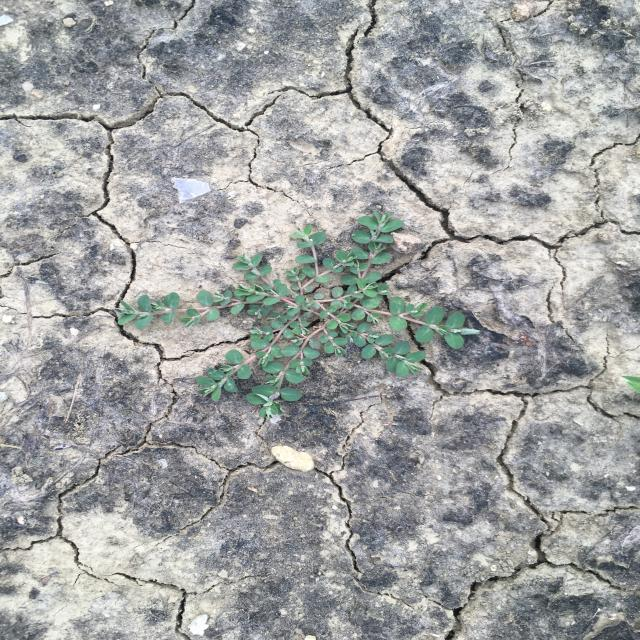SpottedSpurge: (111, 210, 482, 421)
